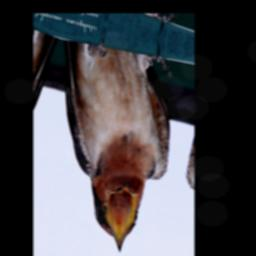Swallow: (39, 21, 184, 256)
